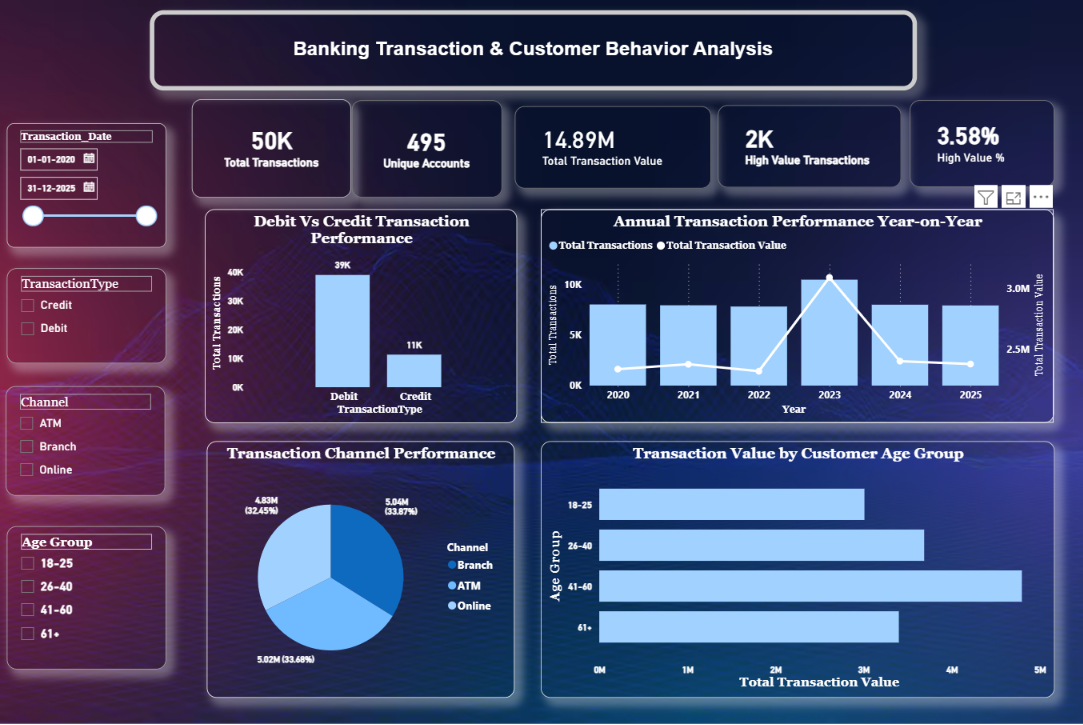

Layout of this report page (visuals, bound fields, positions):
{"tool":"powerbi","page":{"name":"Page 1","canvas":[1342,900],"ordinal":0},"visuals":[{"type":"textbox","box":[189,14,947,99],"z":0},{"type":"cardVisual","fields":{"Data":["BankAnanlysis.Total Transactions"]},"box":[240.6,123.2,197.1,121.7],"z":1000},{"type":"cardVisual","fields":{"Data":["BankAnanlysis.Unique Accounts"]},"box":[437.7,124.6,185.5,120.3],"z":2000},{"type":"cardVisual","fields":{"Data":["BankAnanlysis.Total Transaction Value"]},"box":[639.1,131.9,242,101.4],"z":3000},{"type":"cardVisual","fields":{"Data":["BankAnanlysis.High Value Transactions"]},"box":[889.9,130.4,226.1,101.4],"z":4000},{"type":"cardVisual","fields":{"Data":["BankAnanlysis.High Value %"]},"box":[1127.5,124.6,178.3,107.2],"z":5000},{"type":"lineClusteredColumnComboChart","title":"Annual Transaction Performance Year-on-Year","fields":{"Category":["BankAnanlysis.TransactionDate.Variation.Date Hierarchy.Year"],"Y":["BankAnanlysis.Total Transactions"],"Y2":["BankAnanlysis.Total Transaction Value"]},"box":[671,259.4,633.3,263.8],"z":6000},{"type":"clusteredColumnChart","title":"Debit Vs Credit Transaction Performance","fields":{"Category":["BankAnanlysis.TransactionType"],"Y":["BankAnanlysis.Total Transactions"]},"box":[256.5,259.4,385.5,263.8],"z":7000},{"type":"pieChart","title":"Transaction Channel Performance","fields":{"Category":["BankAnanlysis.Channel"],"Y":["BankAnanlysis.Total Transaction Value"]},"box":[259,545.3,379.8,316.5],"z":8000},{"type":"clusteredBarChart","title":"Transaction Value by Customer Age Group","fields":{"Category":["BankAnanlysis.Age Group"],"Y":["BankAnanlysis.Total Transaction Value"]},"box":[671.9,545.3,634.5,316.5],"z":9000},{"type":"slicer","fields":{"Values":["BankAnanlysis.TransactionDate"]},"box":[12.9,152.5,197.1,153.9],"z":9001},{"type":"slicer","fields":{"Values":["BankAnanlysis.TransactionType"]},"box":[12.9,332.3,197.1,118],"z":9002},{"type":"slicer","fields":{"Values":["BankAnanlysis.Channel"]},"box":[11.5,477.6,197.1,135.2],"z":9003},{"type":"slicer","fields":{"Values":["BankAnanlysis.Age Group"]},"box":[12.9,650.3,197.1,177],"z":9004}]}

Visuals, with their boxes in screenshot pixels (x1, y1, x2, y2), scaled from the page's 1342x900 canvas onto the 1083x725 screenshot:
textbox: box=[153, 11, 917, 91]
cardVisual - BankAnanlysis.Total Transactions: box=[194, 99, 353, 197]
cardVisual - BankAnanlysis.Unique Accounts: box=[353, 100, 503, 197]
cardVisual - BankAnanlysis.Total Transaction Value: box=[516, 106, 711, 188]
cardVisual - BankAnanlysis.High Value Transactions: box=[718, 105, 901, 187]
cardVisual - BankAnanlysis.High Value %: box=[910, 100, 1054, 187]
"Annual Transaction Performance Year-on-Year" lineClusteredColumnComboChart: box=[542, 209, 1053, 421]
"Debit Vs Credit Transaction Performance" clusteredColumnChart: box=[207, 209, 518, 421]
"Transaction Channel Performance" pieChart: box=[209, 439, 516, 694]
"Transaction Value by Customer Age Group" clusteredBarChart: box=[542, 439, 1054, 694]
slicer - BankAnanlysis.TransactionDate: box=[10, 123, 169, 247]
slicer - BankAnanlysis.TransactionType: box=[10, 268, 169, 363]
slicer - BankAnanlysis.Channel: box=[9, 385, 168, 494]
slicer - BankAnanlysis.Age Group: box=[10, 524, 169, 666]
